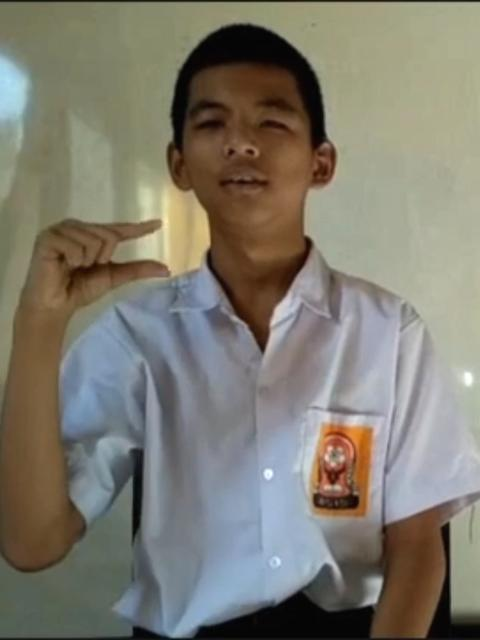G: (12, 218, 168, 326)
